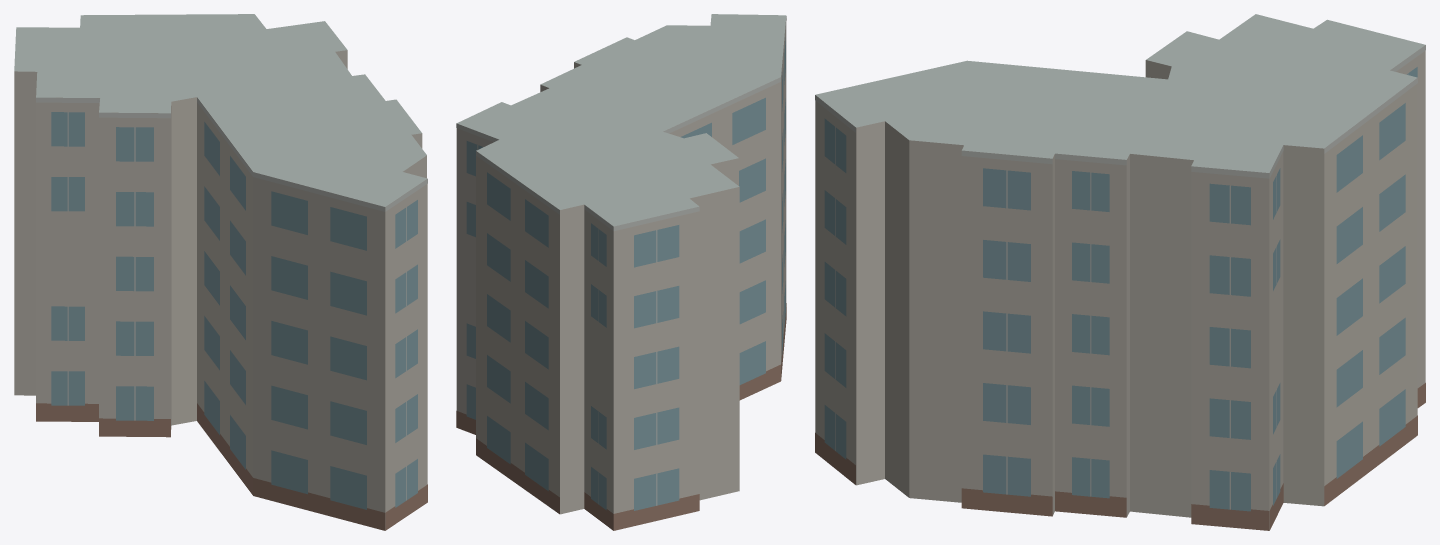
File: survey-upis-32718398.glb
The picture shows the model from 3 angles, left to right: view 1: azimuth 30°, elevation 25°; view 2: azimuth 150°, elevation 25°; view 3: azimuth 270°, elevation 25°; orthographic projection. The views are drawn at different scales.
Parts seen in each view (by area): view 1: survey-upis-32718398.tmp; view 2: survey-upis-32718398.tmp; view 3: survey-upis-32718398.tmp.
Boxes of the visible parts, left/top/right/bottom form: survey-upis-32718398.tmp: left=14, top=14, right=427, bottom=530; survey-upis-32718398.tmp: left=456, top=14, right=786, bottom=530; survey-upis-32718398.tmp: left=815, top=14, right=1425, bottom=530.
Bounding box in the file's own units: 14.98 × 15.7 × 24.3.
